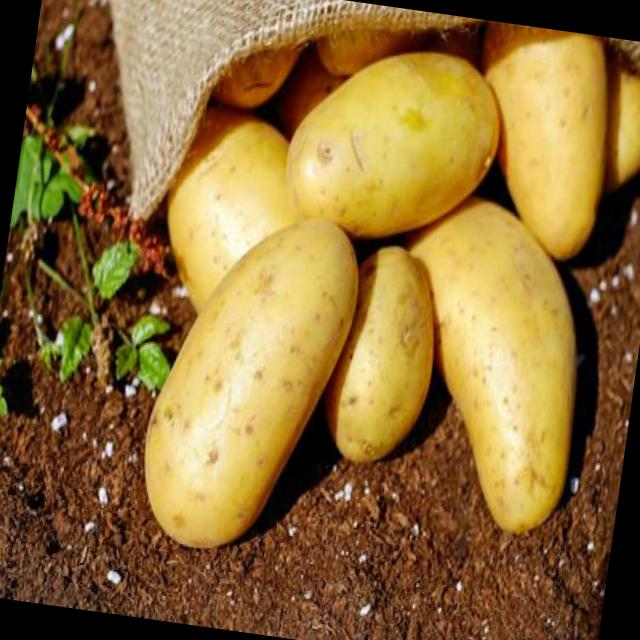potato: (134, 197, 366, 555), (374, 190, 606, 538), (283, 40, 514, 228), (478, 22, 630, 236), (316, 241, 454, 453)
